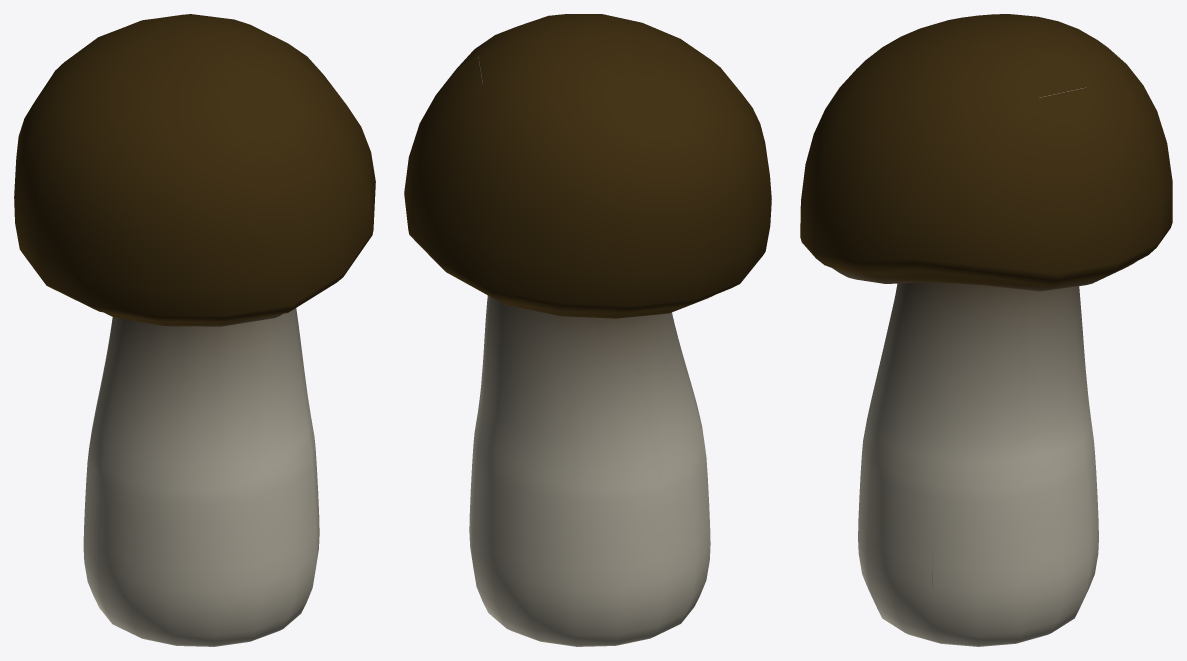
Rendered from Seta Gigante1.fbx.
3 views of the same model, side by side, from view 1: azimuth 30°, elevation 25°; view 2: azimuth 150°, elevation 25°; view 3: azimuth 270°, elevation 25° (orthographic). The views are drawn at different scales.
Parts seen in each view (by area): view 1: Seta mayor1; view 2: Seta mayor1; view 3: Seta mayor1.
Boxes of the visible parts, x1,y1,x2,y2 form: Seta mayor1: [14, 14, 375, 646]; Seta mayor1: [404, 14, 771, 646]; Seta mayor1: [800, 14, 1172, 646].
Size of the model in its own units: 277 by 484 by 281.
